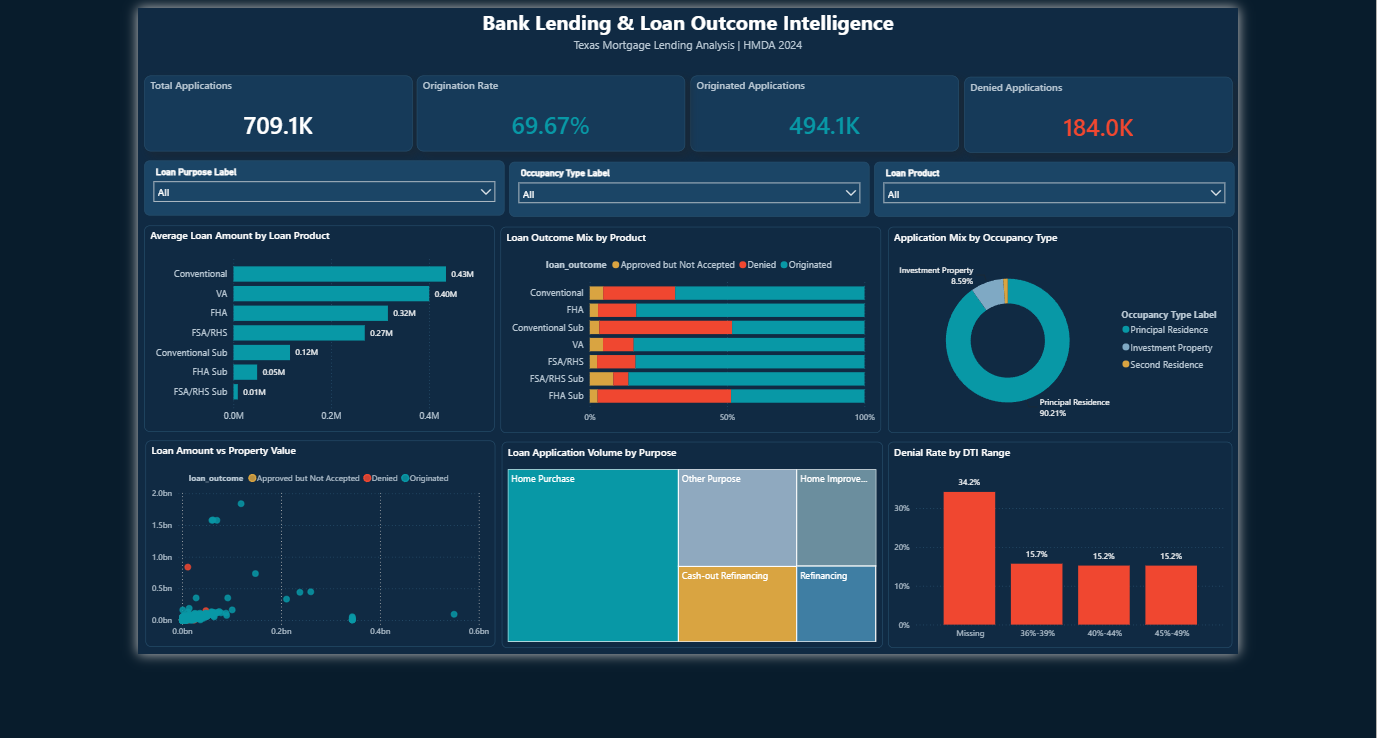

Layout of this report page (visuals, bound fields, positions):
{"tool":"powerbi","page":{"name":"Page 1","canvas":[1600,940],"ordinal":0},"visuals":[{"type":"cardVisual","title":"Total Applications","fields":{"Data":["bank_lending_analysis.Total Applications Display"]},"box":[9.3,98.1,390,110],"z":0},{"type":"cardVisual","title":"Originated Applications","fields":{"Data":["CountNonNull(bank_lending_analysis.loan_outcome)"]},"box":[804.1,98.5,390,110],"z":1000},{"type":"cardVisual","title":"Denied Applications","fields":{"Data":["CountNonNull(bank_lending_analysis.loan_outcome)"]},"box":[1202.6,100,390,110],"z":2000},{"type":"cardVisual","title":"Origination Rate","fields":{"Data":["bank_lending_analysis.Origination Rate"]},"box":[406.3,98.1,390,110],"z":3000},{"type":"donutChart","title":"Application Mix by Occupancy Type","fields":{"Y":["CountNonNull(bank_lending_analysis.loan_outcome)"],"Category":["bank_lending_analysis.Occupancy Type Label"]},"box":[1090.7,318.5,501.9,300],"z":4000},{"type":"hundredPercentStackedBarChart","title":"Loan Outcome Mix by Product","fields":{"Y":["CountNonNull(bank_lending_analysis.loan_outcome)"],"Series":["bank_lending_analysis.loan_outcome"],"Category":["bank_lending_analysis.Loan Product Short"]},"box":[527.8,318.5,553.7,300],"z":5000},{"type":"scatterChart","title":"Loan Amount vs Property Value","fields":{"X":["bank_lending_analysis.loan_amount_analysis_value"],"Y":["bank_lending_analysis.property_value_analysis_value"],"Series":["bank_lending_analysis.loan_outcome"]},"box":[11.1,629.6,509,300],"z":6000},{"type":"columnChart","title":"Denial Rate by DTI Range","fields":{"Category":["bank_lending_analysis.DTI Range"],"Y":["bank_lending_analysis.%GT Denial Rate"]},"box":[1090.7,631.5,501,300],"z":7000},{"type":"clusteredBarChart","title":"Average Loan Amount by Loan Product","fields":{"Y":["Avg(bank_lending_analysis.loan_amount_analysis_value)"],"Category":["bank_lending_analysis.Loan Product Short"]},"box":[9.3,316.7,509.6,300],"z":8000},{"type":"treemap","title":"Loan Application Volume by Purpose","fields":{"Group":["bank_lending_analysis.Loan Purpose Label"],"Values":["CountNonNull(bank_lending_analysis.loan_outcome)"]},"box":[528.5,631.5,554,300],"z":9000},{"type":"slicer","fields":{"Values":["bank_lending_analysis.derived_loan_product_type"]},"box":[1070.4,224.1,524,80],"z":10000},{"type":"slicer","fields":{"Values":["bank_lending_analysis.Loan Purpose Label"]},"box":[9.3,222.2,524,80],"z":11000},{"type":"slicer","fields":{"Values":["bank_lending_analysis.Occupancy Type Label"]},"box":[540.7,224.1,524,80],"z":12000},{"type":"textbox","title":"Bank Lending & Loan Outcome Intelligence","box":[5.6,0,1588.9,83.3],"z":13000}]}

Visuals, with their boxes on the page's 1600x940 design canvas (x1, y1, x2, y2). These are canvas units, not pixel positions in the 1377x738 screenshot, which may show the page scaled, cropped or inside an application window:
"Total Applications" cardVisual: <region>9, 98, 399, 208</region>
"Originated Applications" cardVisual: <region>804, 98, 1194, 208</region>
"Denied Applications" cardVisual: <region>1203, 100, 1593, 210</region>
"Origination Rate" cardVisual: <region>406, 98, 796, 208</region>
"Application Mix by Occupancy Type" donutChart: <region>1091, 318, 1593, 618</region>
"Loan Outcome Mix by Product" hundredPercentStackedBarChart: <region>528, 318, 1082, 618</region>
"Loan Amount vs Property Value" scatterChart: <region>11, 630, 520, 930</region>
"Denial Rate by DTI Range" columnChart: <region>1091, 632, 1592, 932</region>
"Average Loan Amount by Loan Product" clusteredBarChart: <region>9, 317, 519, 617</region>
"Loan Application Volume by Purpose" treemap: <region>528, 632, 1082, 932</region>
slicer - bank_lending_analysis.derived_loan_product_type: <region>1070, 224, 1594, 304</region>
slicer - bank_lending_analysis.Loan Purpose Label: <region>9, 222, 533, 302</region>
slicer - bank_lending_analysis.Occupancy Type Label: <region>541, 224, 1065, 304</region>
"Bank Lending & Loan Outcome Intelligence" textbox: <region>6, 0, 1594, 83</region>
